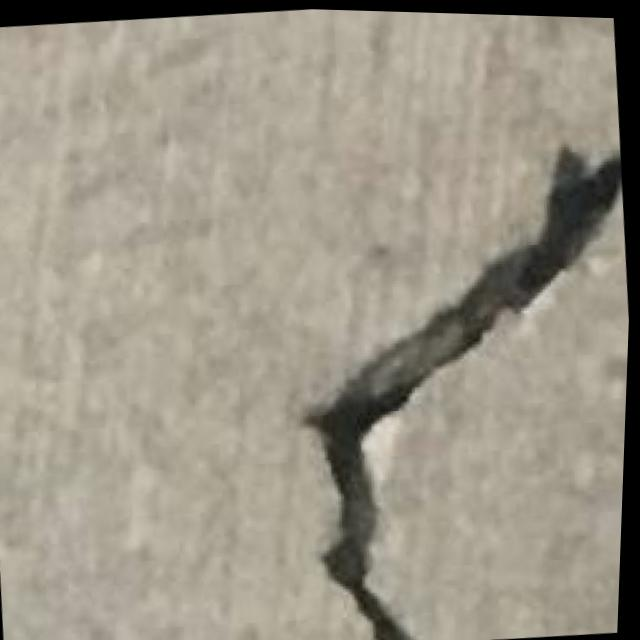Crack: (267, 113, 637, 640)
